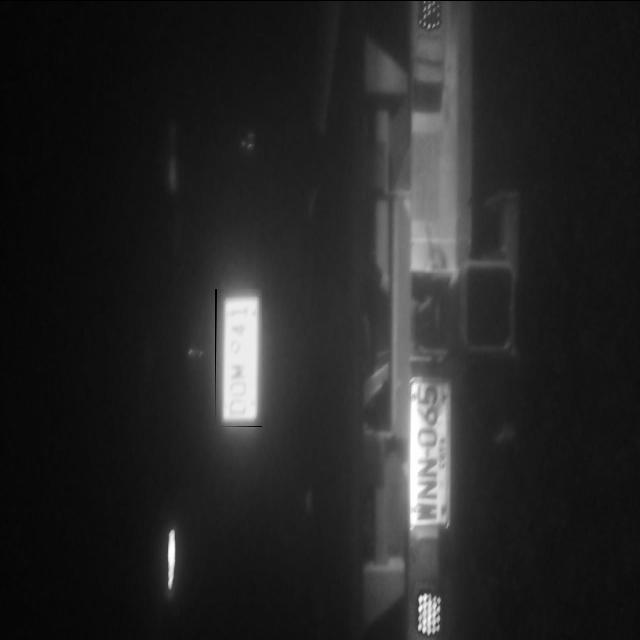plate: (215, 288, 262, 426)
